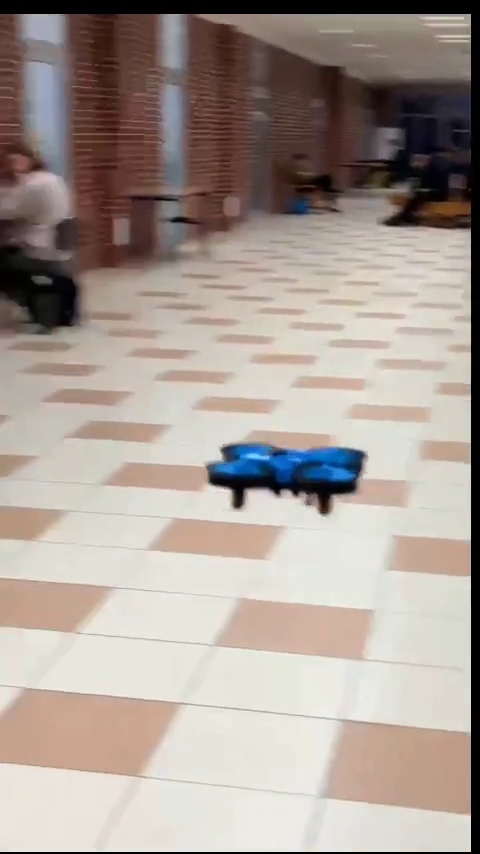drone: (210, 446, 365, 507)
no vest: (0, 138, 83, 338)
